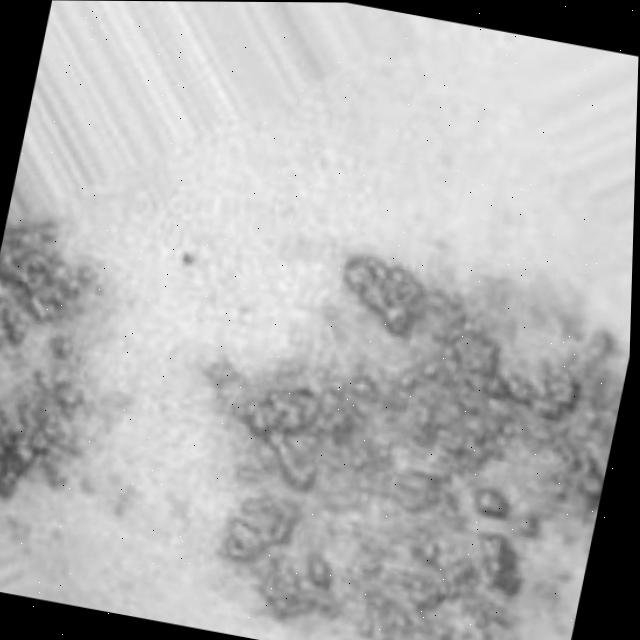Shingles: (181, 239, 633, 640), (0, 206, 99, 490)
